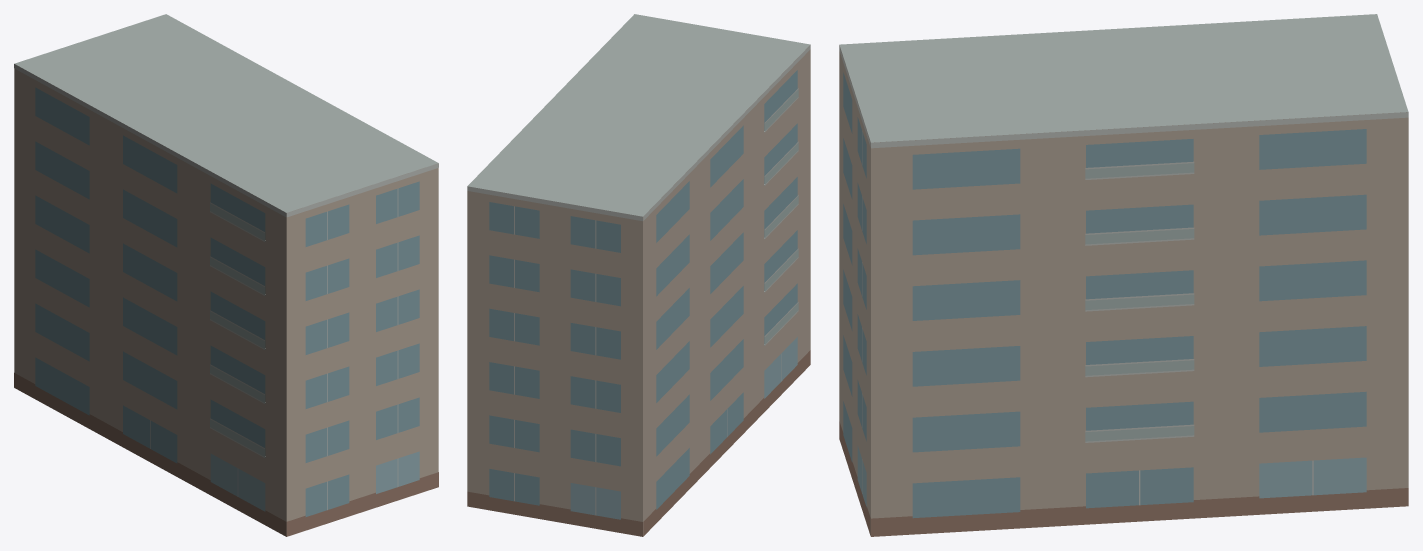
File: survey-upis-32730012.glb
3 views of the same model, side by side, from view 1: azimuth 30°, elevation 25°; view 2: azimuth 150°, elevation 25°; view 3: azimuth 270°, elevation 25° (orthographic). The views are drawn at different scales.
Parts seen in each view (by area): view 1: survey-upis-32730012.tmp; view 2: survey-upis-32730012.tmp; view 3: survey-upis-32730012.tmp.
Boxes of the visible parts, bbox=[...] form: survey-upis-32730012.tmp: bbox=[14, 14, 438, 536]; survey-upis-32730012.tmp: bbox=[467, 14, 810, 536]; survey-upis-32730012.tmp: bbox=[839, 14, 1408, 536].
Size of the model in its own units: 11.9 by 17 by 22.25.
